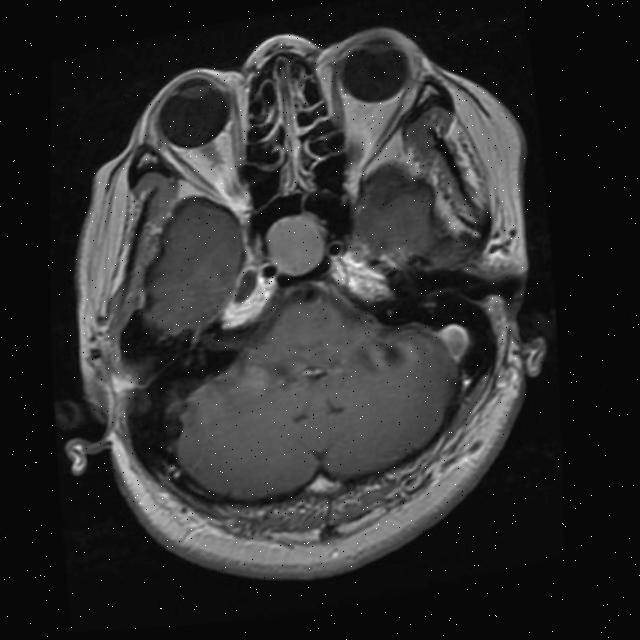Pituitary: (258, 206, 330, 281)
